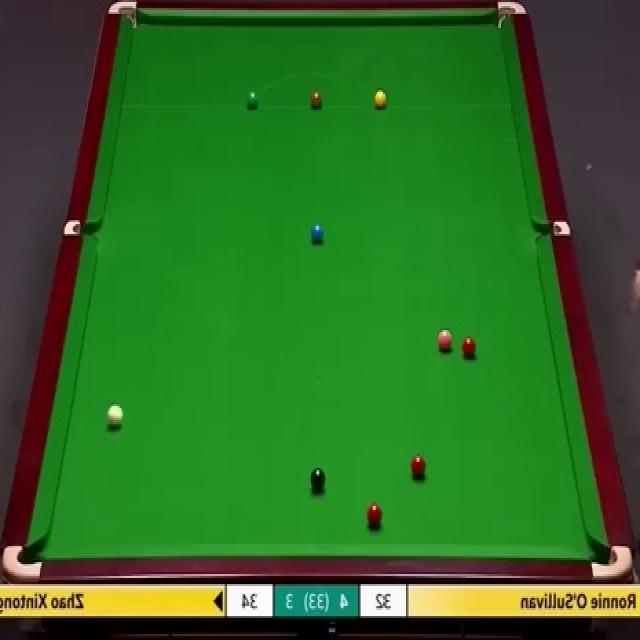pocket: (0, 543, 44, 582), (590, 542, 634, 580), (495, 0, 528, 34), (110, 0, 141, 32), (64, 218, 101, 240), (535, 220, 573, 235)
